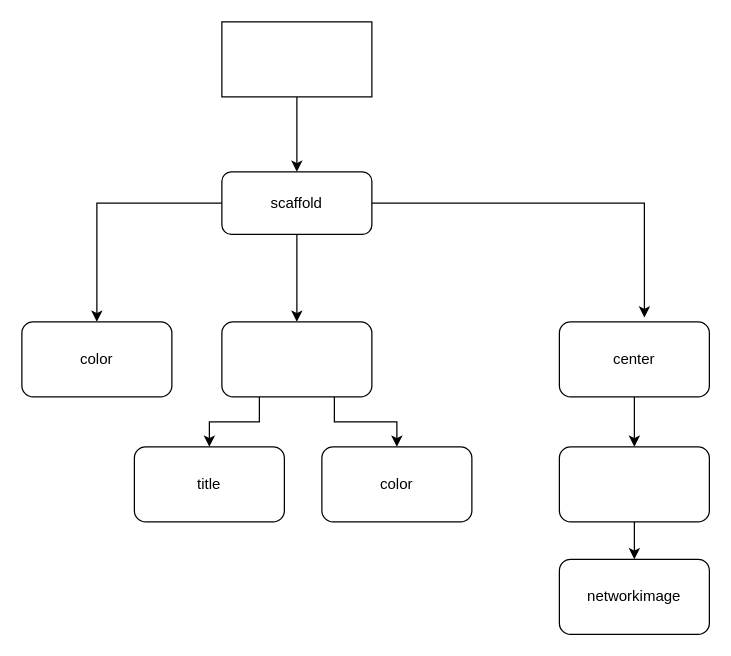
Some shapes in this 731 by 656 pixel diagram are drawn without their labels. The shapes that lost their labels are listed below. From the top down, each one's centre as x and y in pixels, then its label:
At point (296, 59): "Material app".
At point (296, 359): "appBar".
At point (633, 484): "image".
